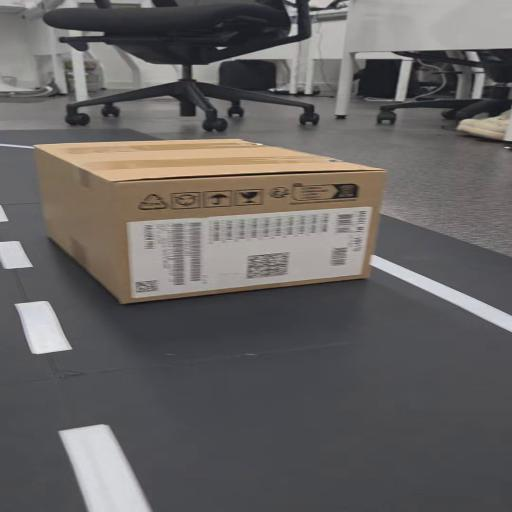Box: (27, 134, 429, 312)
